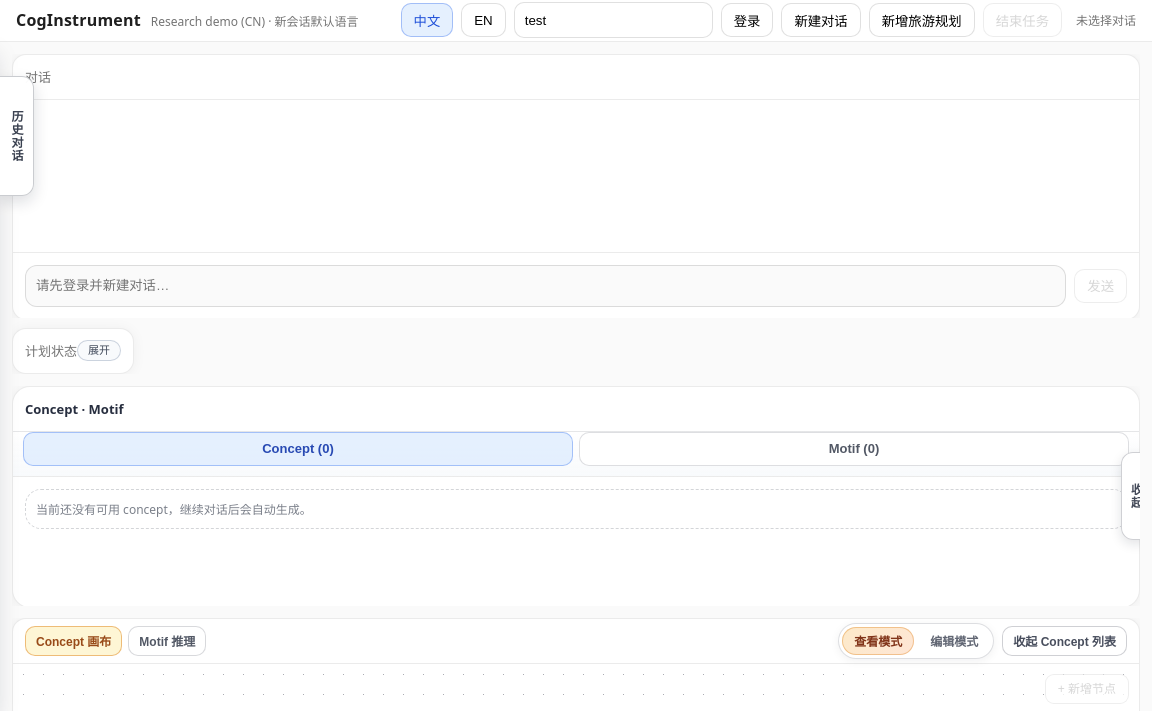
Test: new trip modal explains section-5 inheritance flow in user language
Click the button "新增旅游规划": x=922, y=20 [869,3,975,37]
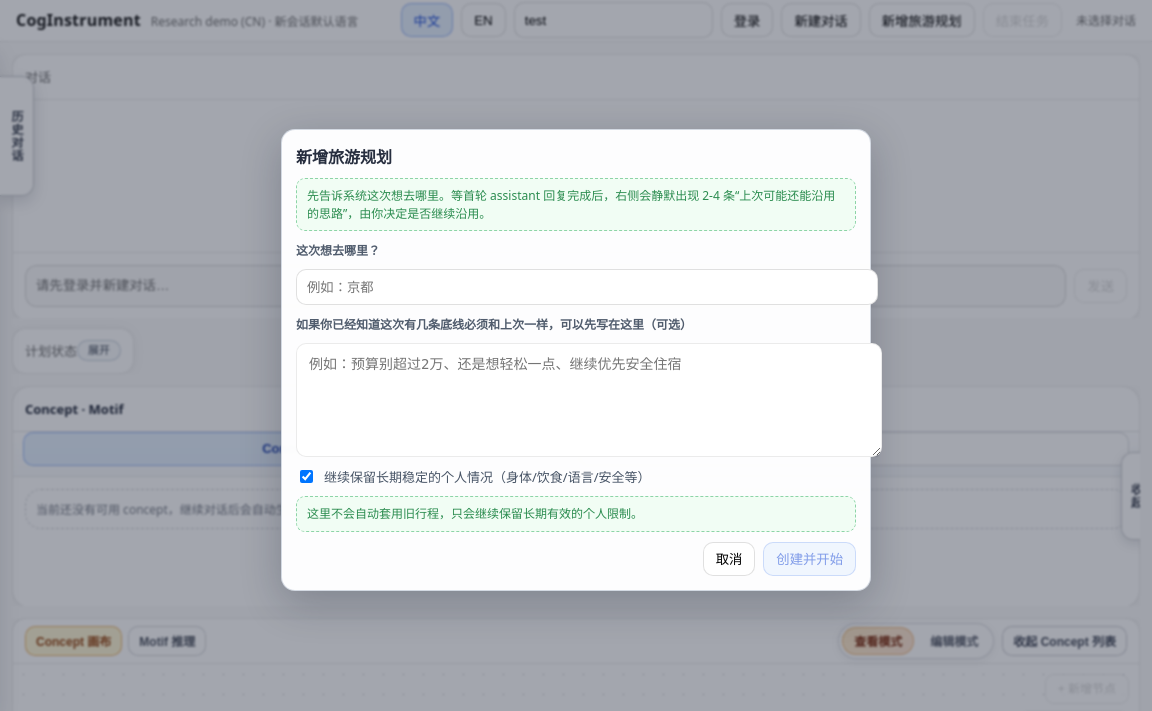
expect the text "先告诉系统这次想去哪里。等首轮 assistant 回复完成后，右侧会静默出现 2-4 条“上次可能还能沿用的思路”，由你决定是否继续沿用。" is shown: met, box [296,178,856,231]
expect the text "如果你已经知道这次有几条底线必须和上次一样，可以先写在这里（可选）" is shown: met, box [296,316,692,333]
expect the text "继续保留长期稳定的个人情况（身体/饮食/语言/安全等）" is shown: met, box [324,467,650,486]
